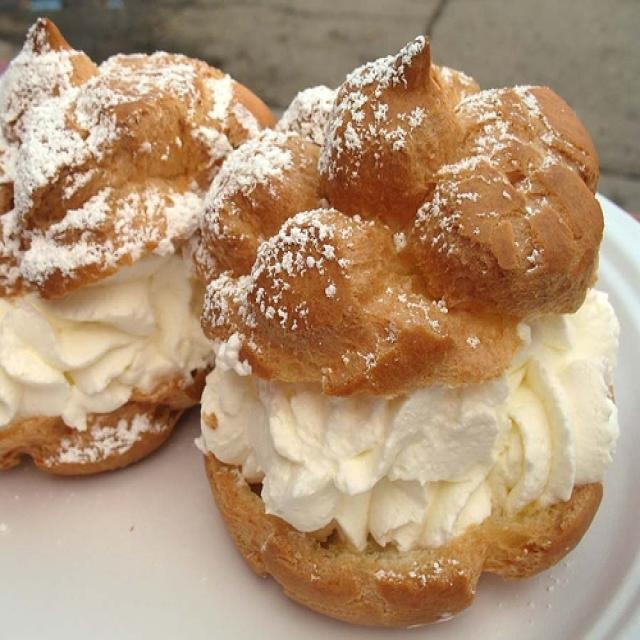炸货点心: (15, 8, 617, 624)
蛋糕甜品: (15, 8, 617, 624)
